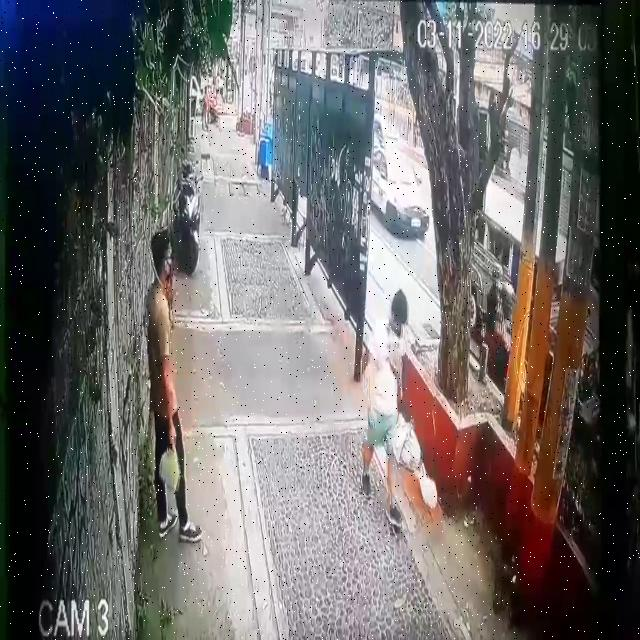human: (147, 231, 204, 542), (359, 290, 412, 535)
trash: (393, 402, 438, 509)
